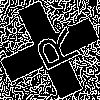R: (25, 25, 82, 78)
